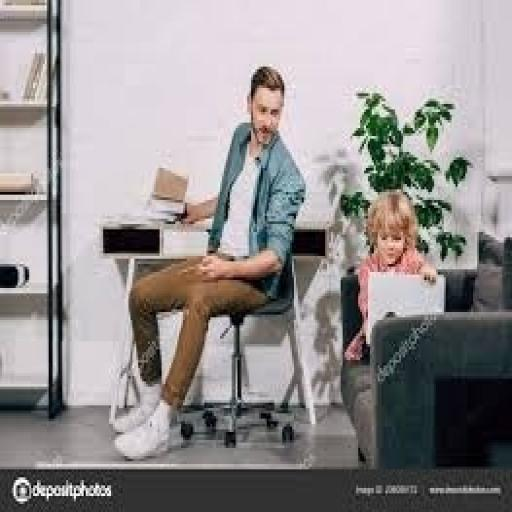using_laptop: (303, 222, 455, 388)
